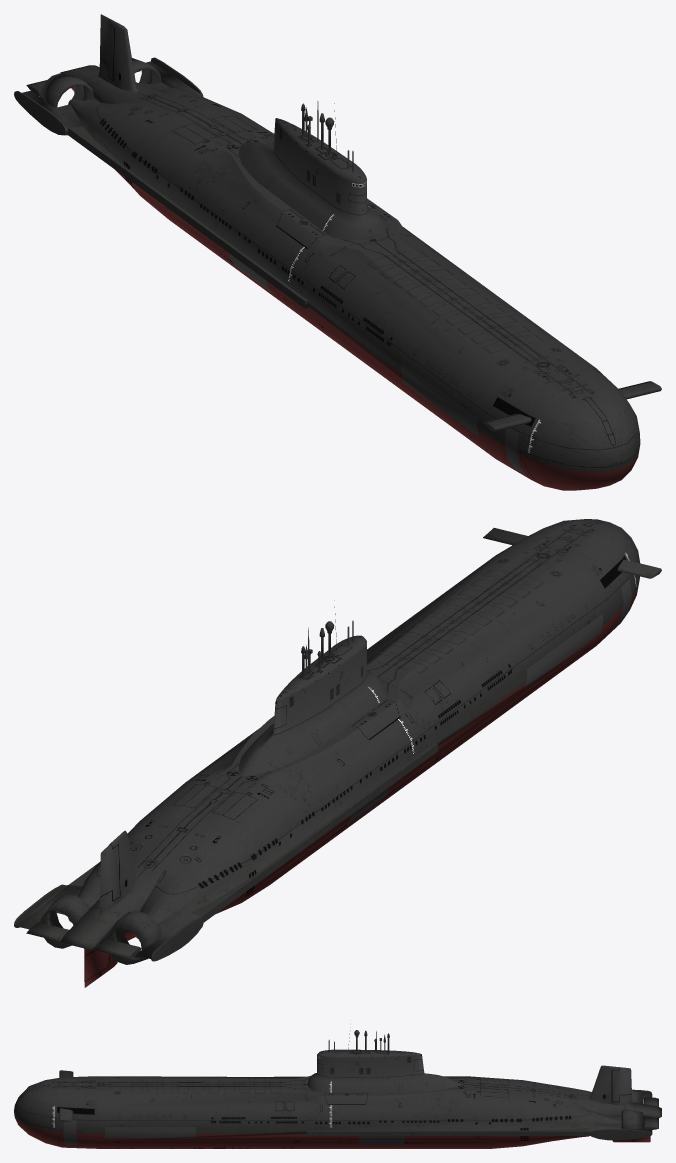
The picture shows the model from 3 angles, top to bottom: view 1: azimuth 30°, elevation 25°; view 2: azimuth 150°, elevation 25°; view 3: azimuth 270°, elevation 25°; orthographic projection. The views are drawn at different scales.
Visible parts, largest first — view 1: submarine; view 2: submarine; view 3: submarine.
Part boxes in pixels (<box>): submarine: <box>14,14,661,490</box>; submarine: <box>14,519,661,987</box>; submarine: <box>14,1027,661,1148</box>.
Size of the model in its own units: 5.15 by 6.17 by 28.69.
1 material, 1 textured.
